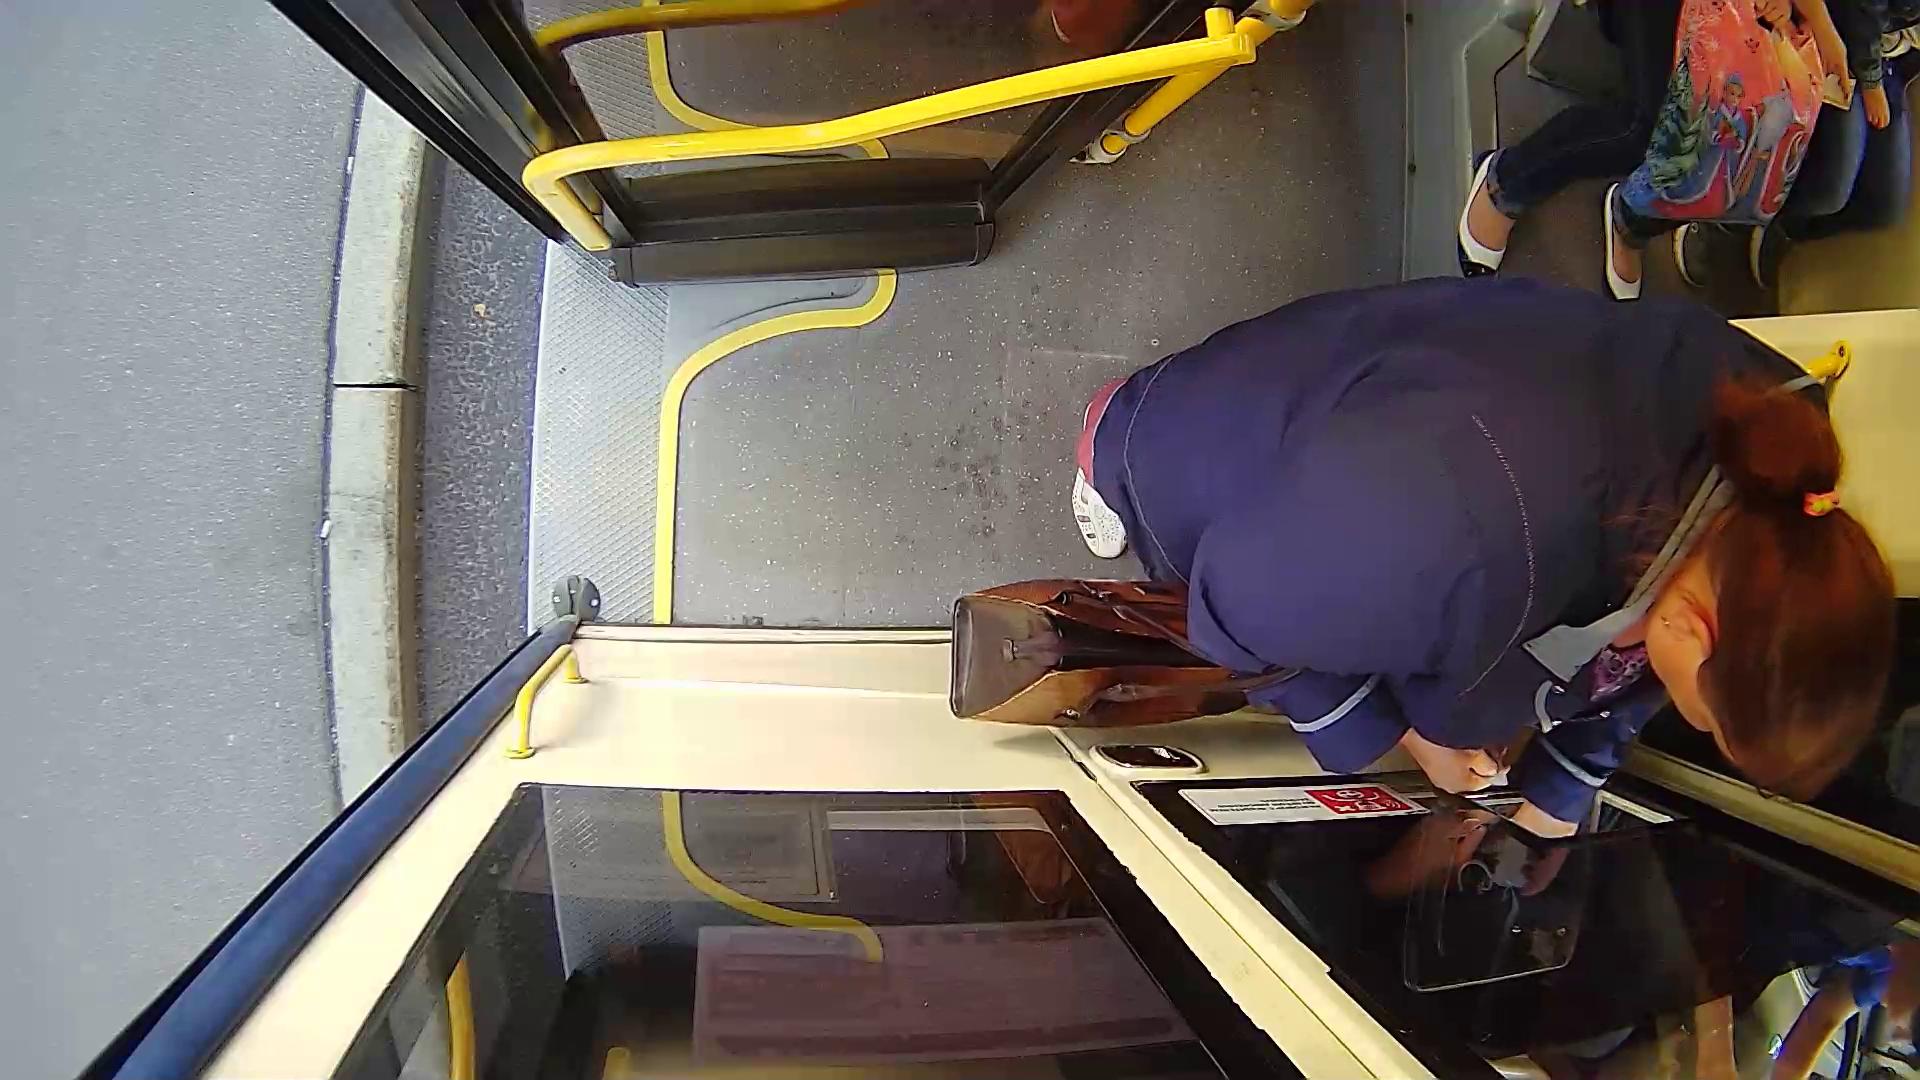person: (1092, 242, 1878, 827)
